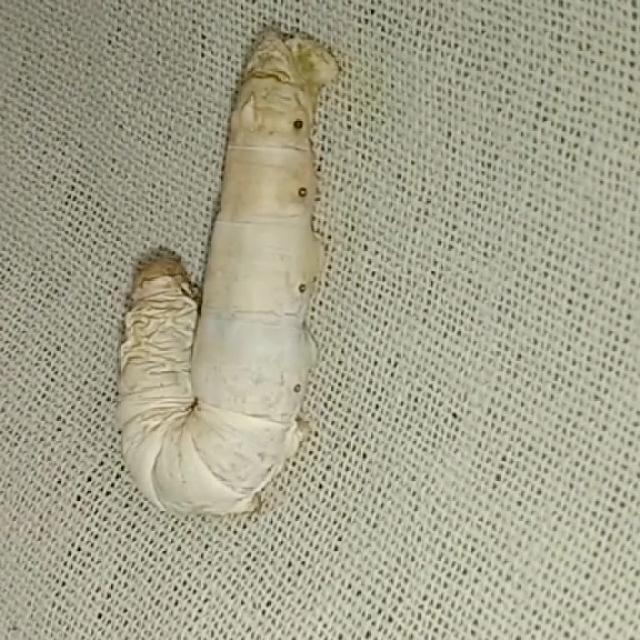Grasserie: (94, 24, 342, 554)
